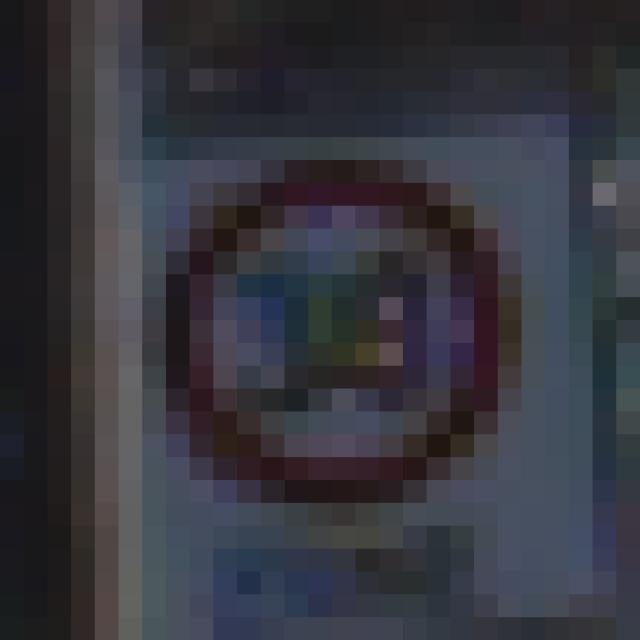Speed Limit -30-: (107, 103, 510, 514)
